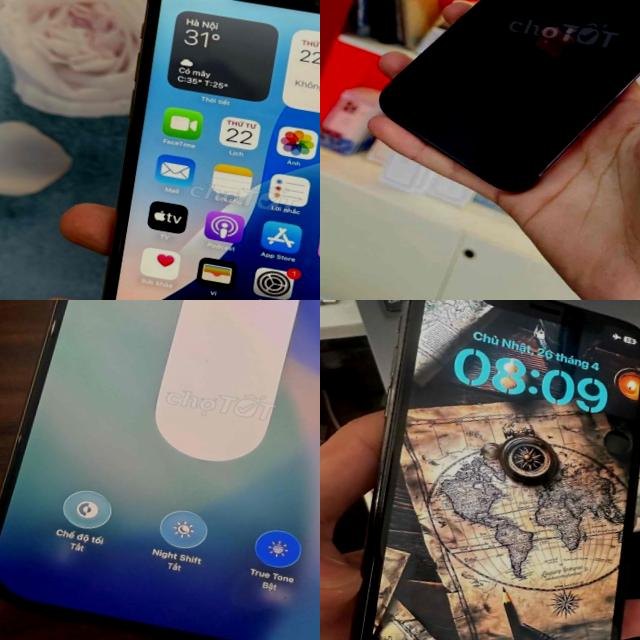gen_11: (59, 0, 320, 300)
gen_12_13: (358, 0, 640, 222)
gen_16: (0, 300, 320, 640)
gen_x_xs: (320, 300, 640, 640)
